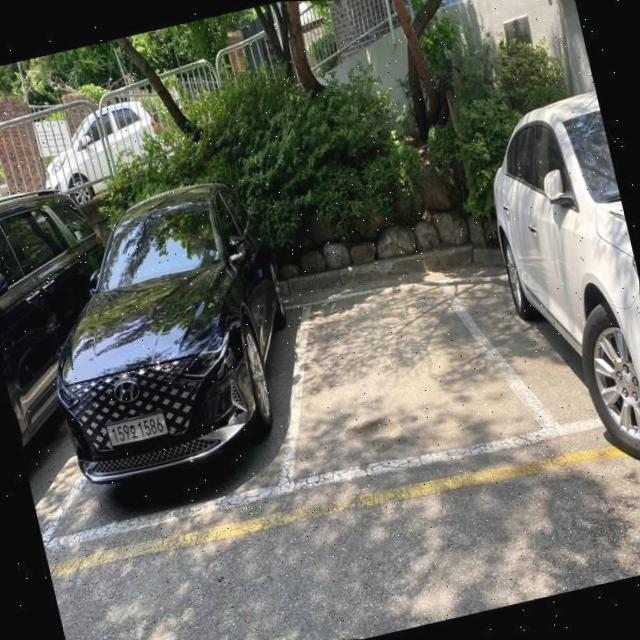car: (20, 172, 308, 497)
free: (308, 268, 510, 482)
